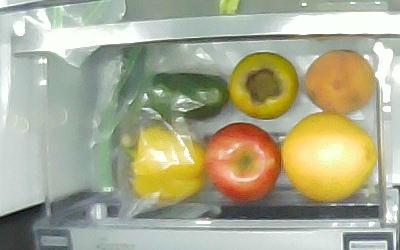apple: (204, 123, 281, 202)
grapefruit: (281, 111, 376, 204)
paprika_vinyl: (126, 127, 205, 207), (136, 73, 229, 120)
peach: (305, 50, 374, 113)
persimmon: (228, 52, 298, 120)
